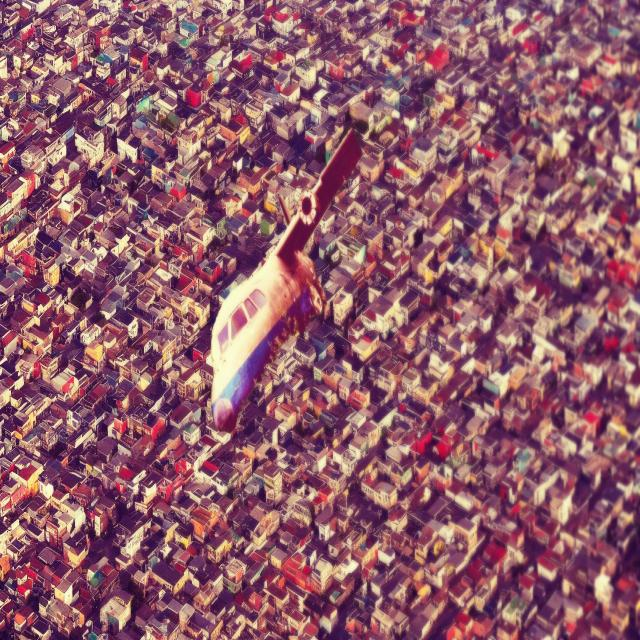airplane: (208, 126, 363, 432)
